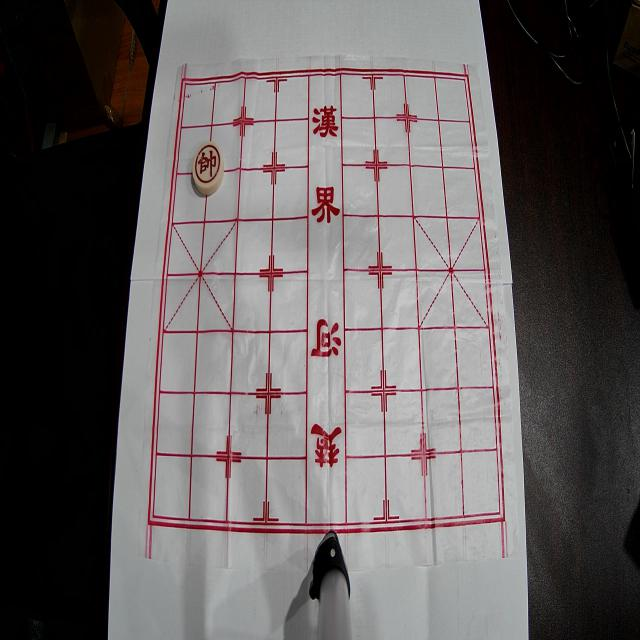red-general: (192, 141, 224, 195)
